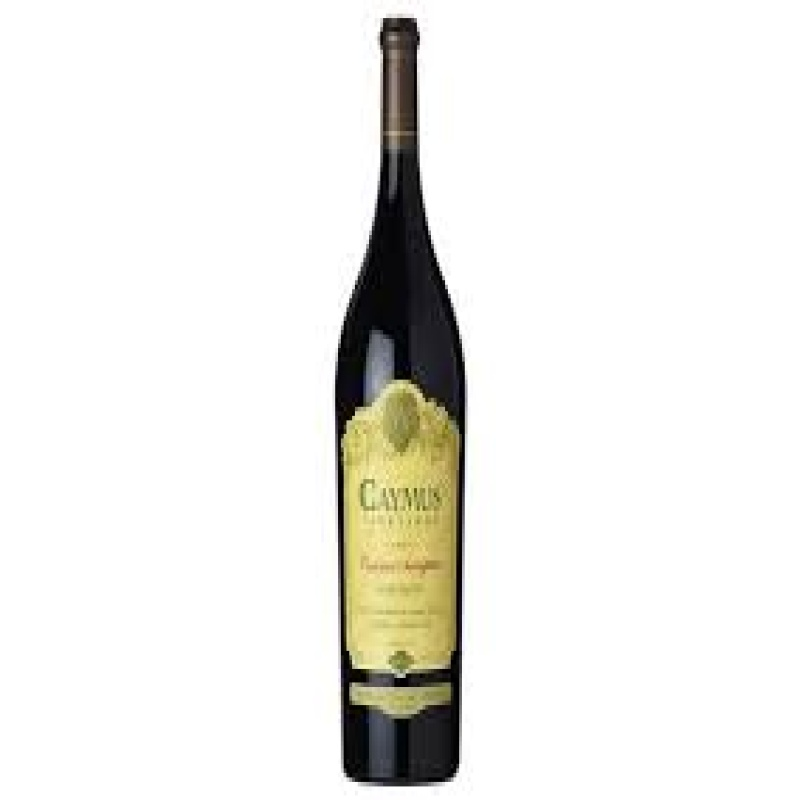wine: (330, 21, 465, 788)
